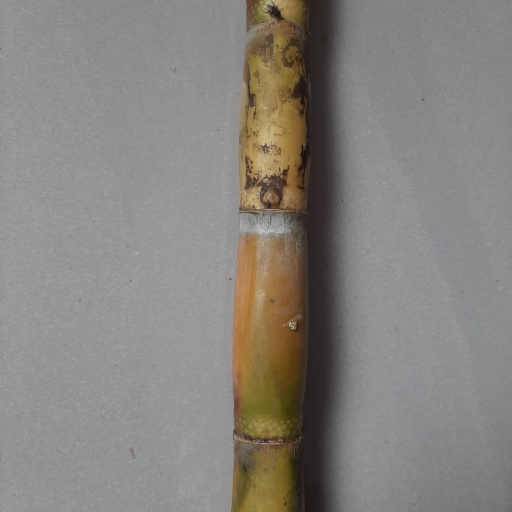Bud: (261, 186, 282, 208)
